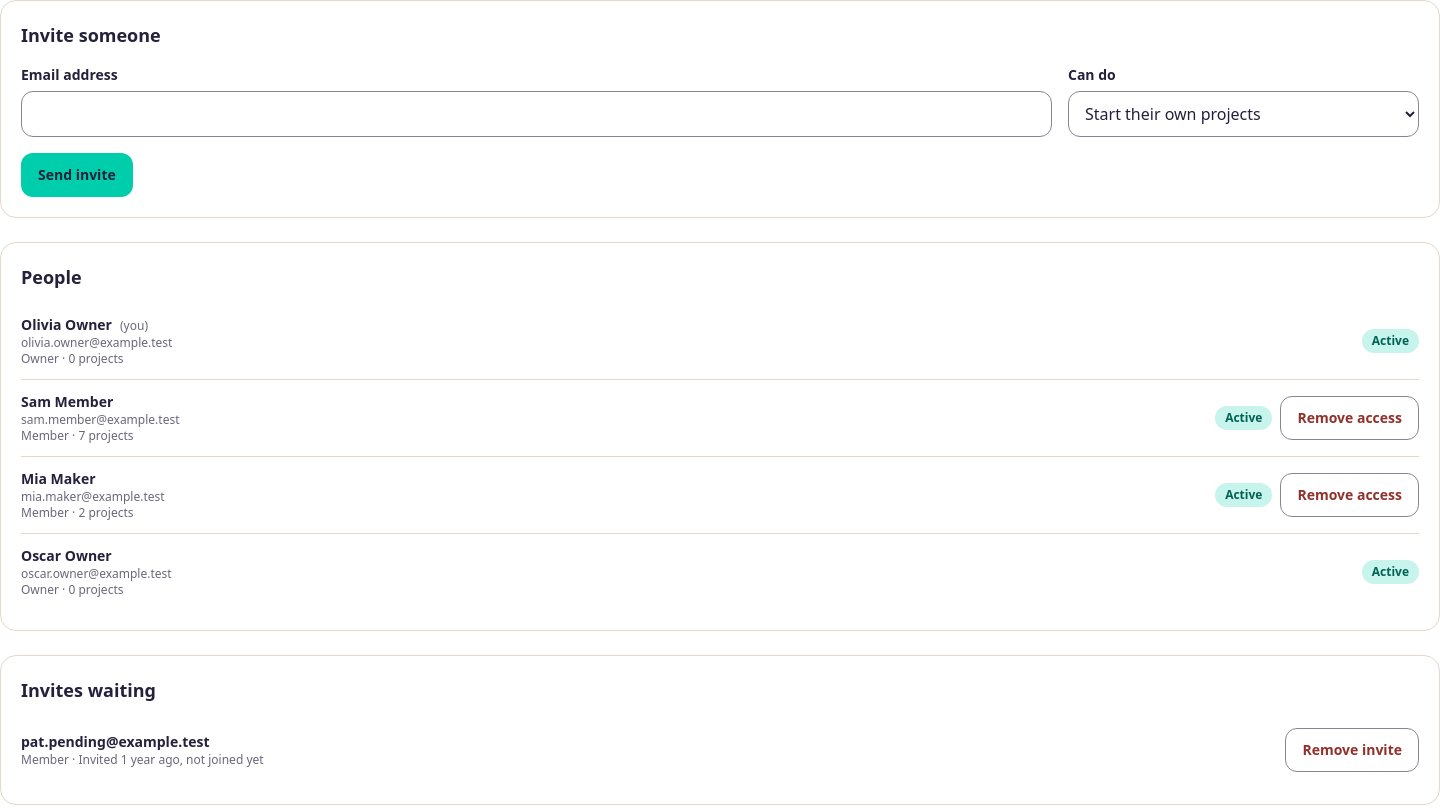
Test: TeamManager: invites › an invite that is sent shows up as waiting
In the field labelled "Email address": (536, 114) [21,91,1052,137], type "Zed.New@example.test"
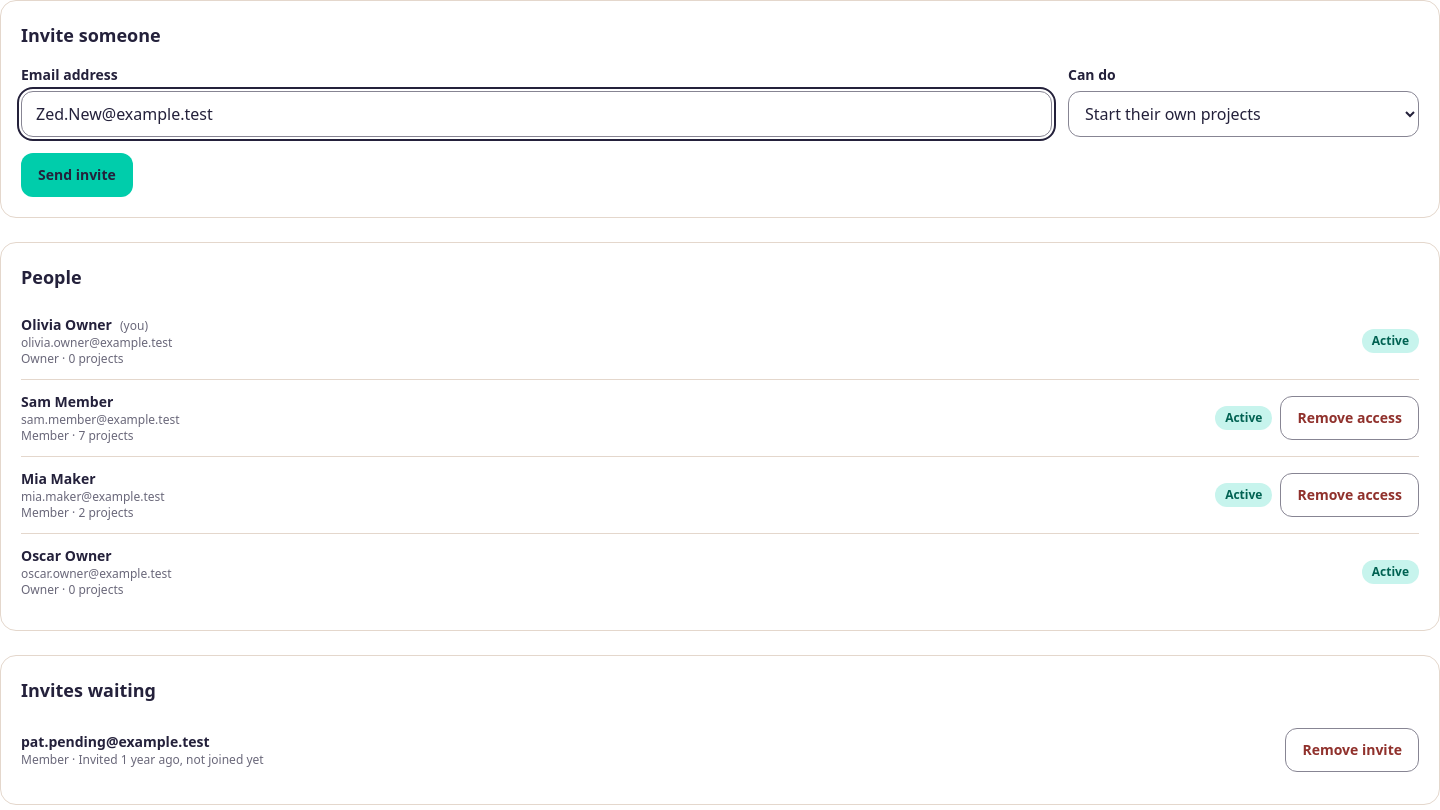
Click the button "Send invite": click(77, 175) [21,153,133,197]
(page scrolled)
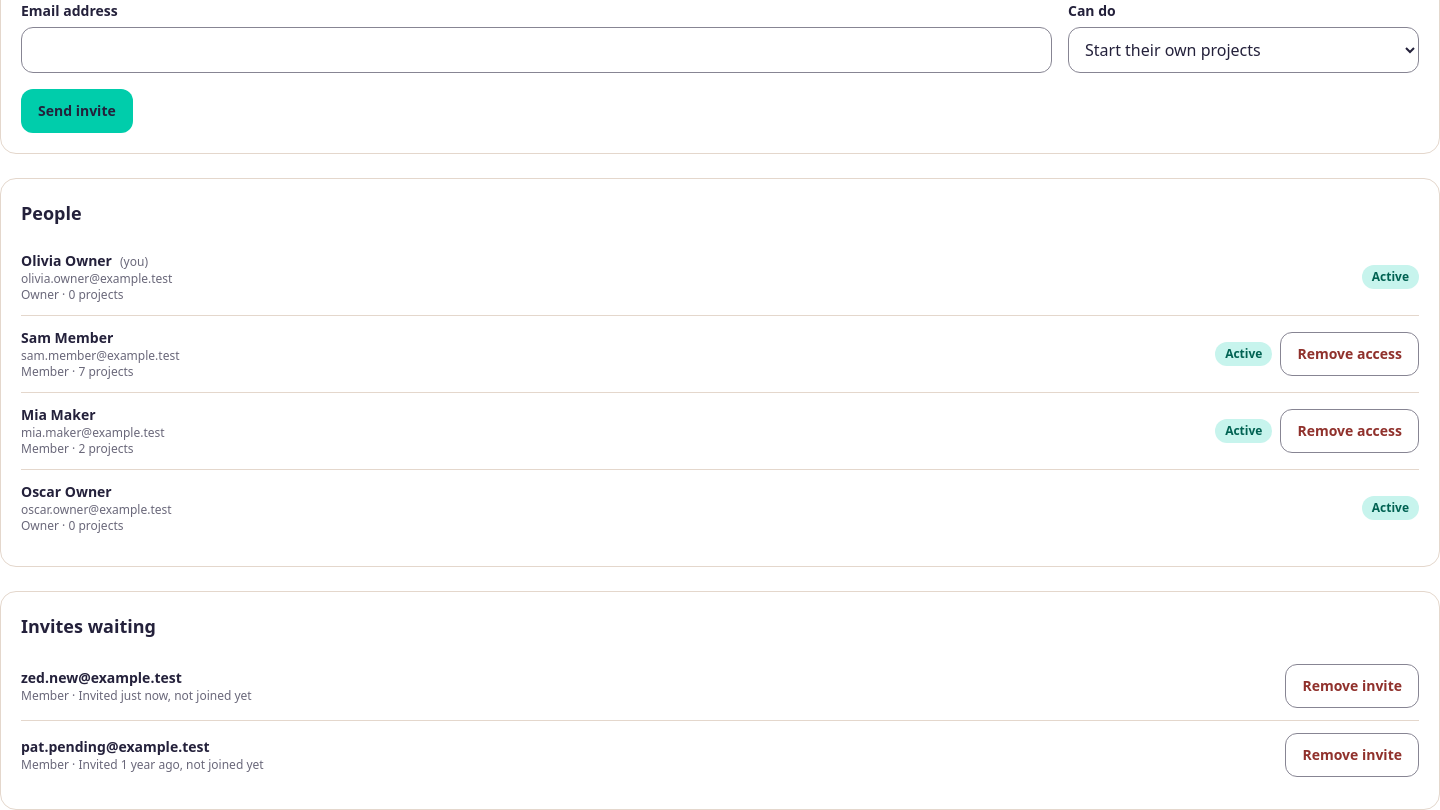
expect the text "zed.new@example.test" is shown: met, box [21,668,182,687]
